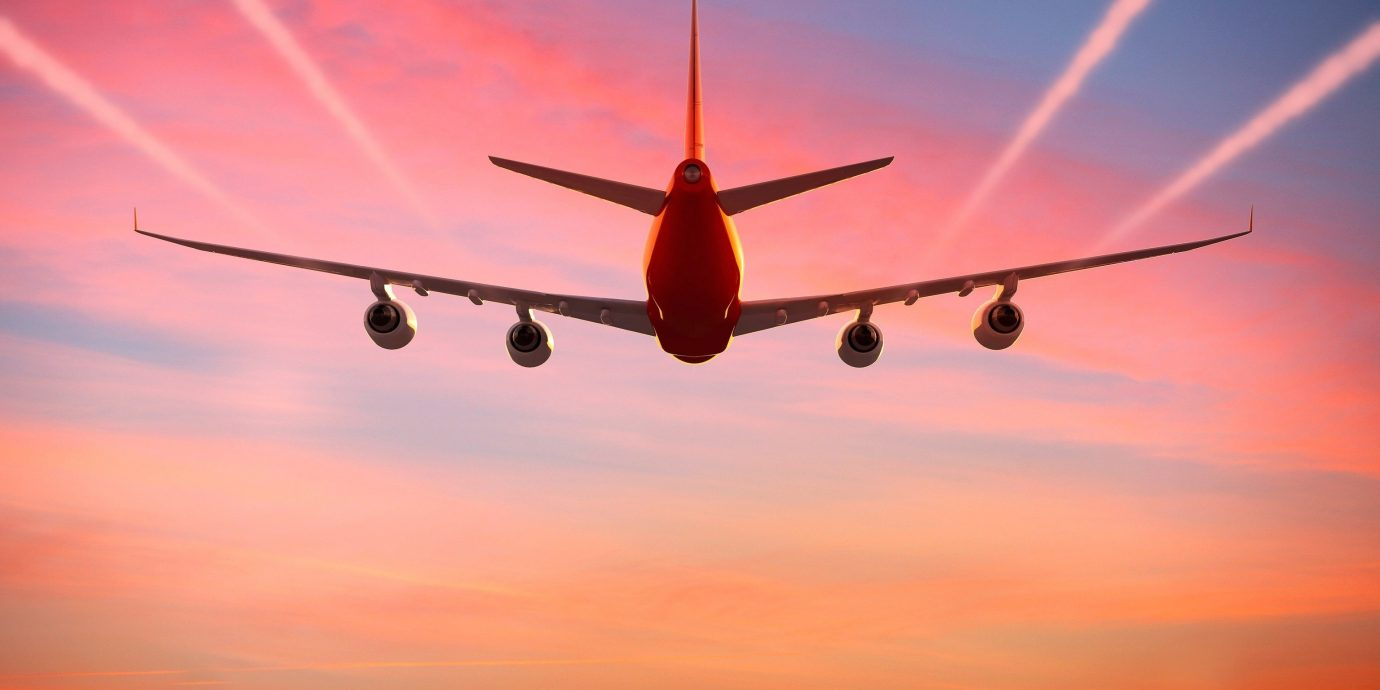plane: (131, 5, 1253, 379)
